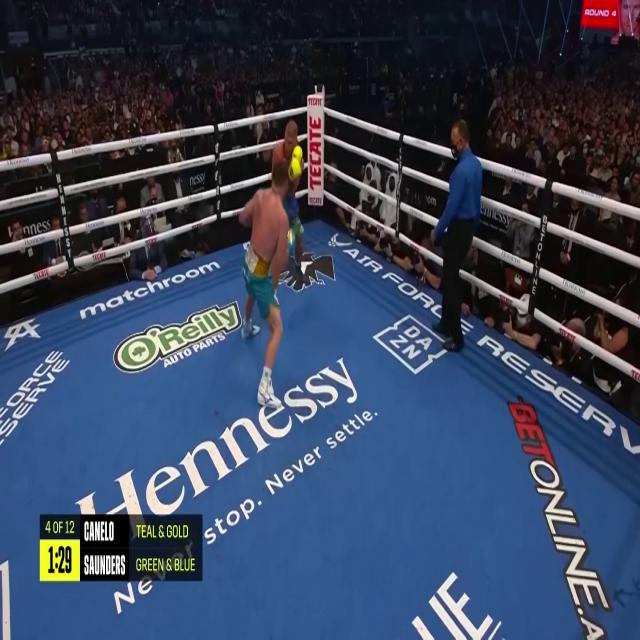boxer_1: (272, 119, 298, 164), (291, 178, 299, 193)
boxer_2: (239, 159, 289, 285)
gloves_1: (289, 143, 304, 180)
